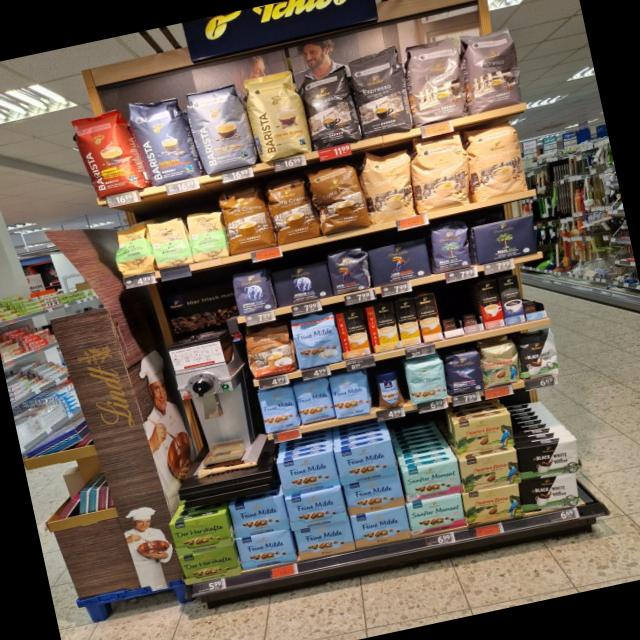AB Bohne: (227, 266, 276, 316)
AB Gemahlen: (270, 258, 334, 308)
Athiopien Bohne: (110, 221, 156, 279)
Athiopien Gemahlen: (184, 206, 230, 263), (146, 216, 193, 270)
BM Bohne: (428, 220, 477, 274)
BM Gemahlen: (468, 212, 541, 265)
BW Bohne: (516, 328, 562, 382)
BW Gemahlen: (515, 432, 586, 482), (518, 468, 583, 514)
Barista CB: (242, 68, 312, 162)
Barista CC: (183, 79, 260, 177)
Barista Espresso: (124, 90, 201, 189)
Barista Kolumbien: (66, 102, 150, 198)
C Fino Bohne: (443, 345, 487, 397)
CC Mild: (407, 128, 478, 215), (460, 118, 530, 202), (356, 142, 422, 225)
CC Vollmundig: (241, 322, 299, 381)
CC Vollmundig 36 Pads: (306, 160, 372, 238), (216, 184, 276, 256), (262, 174, 320, 246)
Colombia BB Bohne: (478, 338, 524, 389)
Colombia BB Gemahlen: (452, 410, 517, 459), (458, 446, 522, 494), (461, 482, 524, 528)
Empty Shelf: (434, 288, 462, 332), (456, 284, 482, 326)
Espresso Kraftig: (295, 62, 362, 150)
Espresso M Art: (398, 33, 472, 126), (457, 21, 529, 113)
Espresso S Art: (344, 45, 415, 138)
FM 36 Pads: (288, 310, 343, 370)
FM Bohne: (254, 384, 302, 434), (328, 368, 373, 419), (292, 375, 336, 426)
FM Gemahlen: (273, 450, 341, 498), (331, 438, 399, 486), (227, 493, 290, 540), (284, 486, 347, 532), (342, 473, 406, 518), (234, 528, 297, 573), (292, 518, 356, 562), (350, 504, 411, 548)
FM Instant: (372, 366, 406, 411)
Herzhatfe Mundig: (166, 510, 234, 558), (177, 544, 240, 586)
LG Bohne: (325, 245, 374, 297)
LG Gemahlen: (364, 235, 434, 288)
SM Bohne: (404, 356, 449, 406)
SM Gemahlen: (402, 458, 464, 502), (407, 492, 468, 536)
Simo CCMild: (364, 301, 400, 352)
Simo CCMild bigpack: (393, 297, 422, 347)
Simo CCVollmundig: (336, 308, 370, 358)
Simo CCVollmundig bigpack: (414, 292, 444, 344)
Simo Es Brazil: (475, 278, 505, 330)
Simo Es Kraft: (497, 274, 526, 324)
